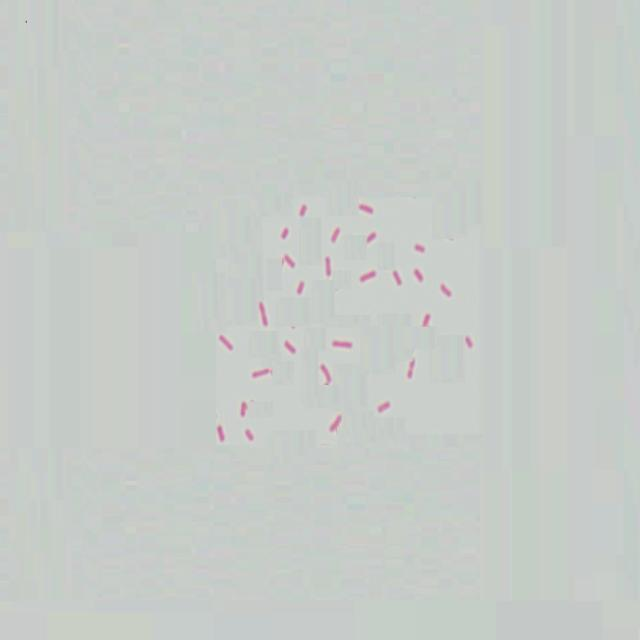E-coli: (218, 326, 234, 355), (256, 298, 270, 330), (250, 363, 272, 382), (332, 332, 353, 351), (282, 249, 299, 272), (322, 253, 335, 282), (390, 266, 405, 291), (316, 361, 332, 384), (438, 281, 455, 302), (412, 239, 430, 257), (359, 269, 377, 287), (375, 395, 391, 415), (358, 201, 378, 217), (282, 338, 296, 360), (215, 420, 226, 448), (242, 425, 257, 445), (329, 224, 344, 244), (406, 359, 419, 382), (462, 333, 478, 351), (328, 414, 342, 434), (420, 312, 433, 330), (238, 400, 250, 419), (415, 267, 426, 285), (363, 233, 377, 247), (297, 202, 310, 217), (296, 280, 307, 296), (280, 224, 291, 240)
